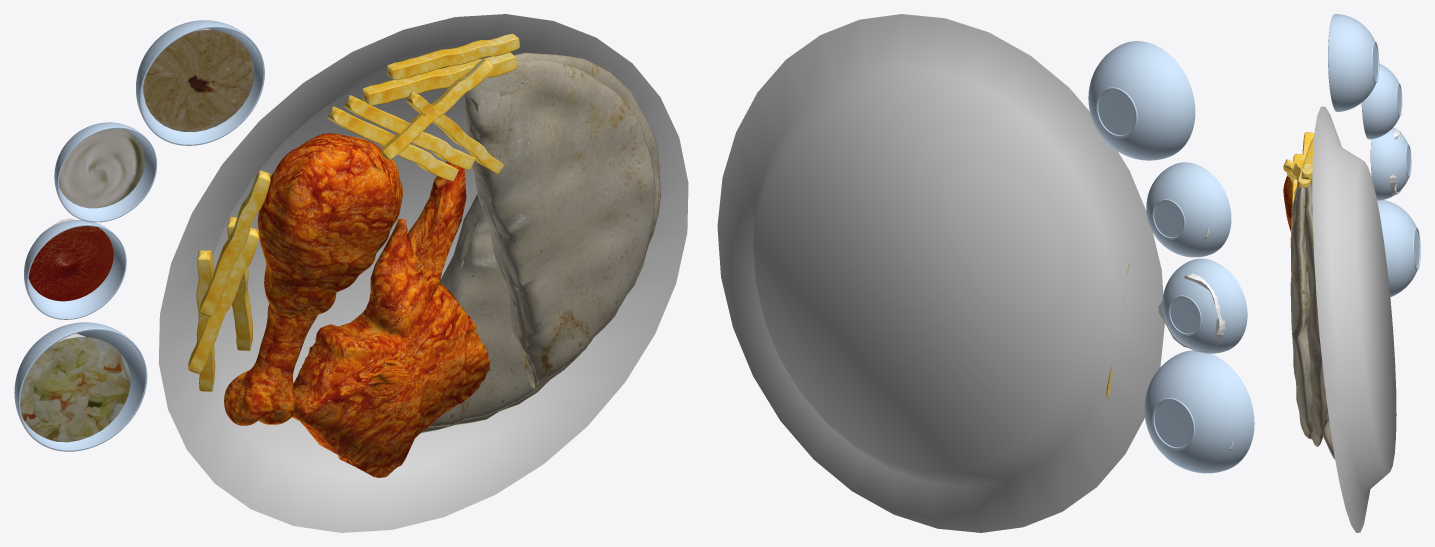
Rendered from solo_broasted.glb.
The picture shows the model from 3 angles, left to right: view 1: azimuth 30°, elevation 25°; view 2: azimuth 150°, elevation 25°; view 3: azimuth 270°, elevation 25°; orthographic projection. The views are drawn at different scales.
Visible parts, largest first — view 1: Circle.001, Cylinder.001, Vert, 15513_Fried_Chicken_Drumstick_v1, Cylinder, coffee.004, coffee.001, coffee.002, coffee.003, Kugel.003, Kugel.004, Kugel.002 (+11 smaller); view 2: Circle.001, Kugel.003, Kugel.004, Kugel.001, Kugel.002, coffee.003; view 3: Circle.001, Cylinder.001, Kugel.004, Kugel.003, Kugel.002, Kugel.001, 15513_Fried_Chicken_Drumstick_v1, Cube.009, Cube.007, Cube.008, Cylinder, coffee.003 (+2 smaller).
Part boxes in pixels (left/top/right/bottom): Circle.001: left=158, top=14, right=688, bottom=532; Cylinder.001: left=463, top=53, right=660, bottom=389; Vert: left=291, top=161, right=489, bottom=477; 15513_Fried_Chicken_Drumstick_v1: left=224, top=133, right=402, bottom=425; Cylinder: left=421, top=194, right=592, bottom=432; coffee.004: left=20, top=333, right=130, bottom=442; coffee.001: left=142, top=28, right=254, bottom=132; coffee.002: left=59, top=128, right=144, bottom=208; coffee.003: left=28, top=218, right=113, bottom=301; Kugel.003: left=14, top=322, right=147, bottom=451; Kugel.004: left=136, top=20, right=264, bottom=145; Kugel.002: left=24, top=220, right=126, bottom=319; Circle.001: left=717, top=14, right=1164, bottom=532; Kugel.003: left=1144, top=350, right=1254, bottom=473; Kugel.004: left=1088, top=41, right=1195, bottom=160; Kugel.001: left=1146, top=162, right=1231, bottom=257; Kugel.002: left=1162, top=258, right=1247, bottom=353; coffee.003: left=1158, top=273, right=1225, bottom=351; Circle.001: left=1312, top=106, right=1396, bottom=532; Cylinder.001: left=1290, top=175, right=1327, bottom=446; Kugel.004: left=1328, top=14, right=1379, bottom=111; Kugel.003: left=1377, top=200, right=1420, bottom=296; Kugel.002: left=1370, top=127, right=1411, bottom=200; Kugel.001: left=1361, top=64, right=1402, bottom=139; 15513_Fried_Chicken_Drumstick_v1: left=1283, top=175, right=1292, bottom=231; Cube.009: left=1301, top=136, right=1314, bottom=179; Cube.007: left=1290, top=153, right=1304, bottom=248; Cube.008: left=1283, top=159, right=1300, bottom=182; Cylinder: left=1323, top=410, right=1334, bottom=459; coffee.003: left=1389, top=130, right=1401, bottom=195.
Bounding box in the file's own units: 8.63 × 7.46 × 2.24.
Materials: 23 (18 with a texture image).
